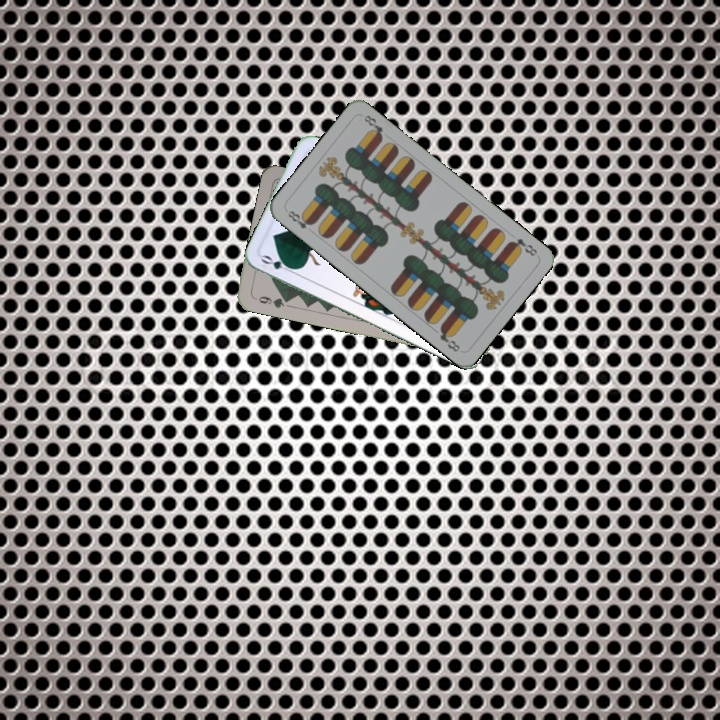E8: (505, 234, 540, 259), (284, 206, 316, 232)
G9: (250, 292, 291, 311)
GO: (257, 251, 298, 276)
